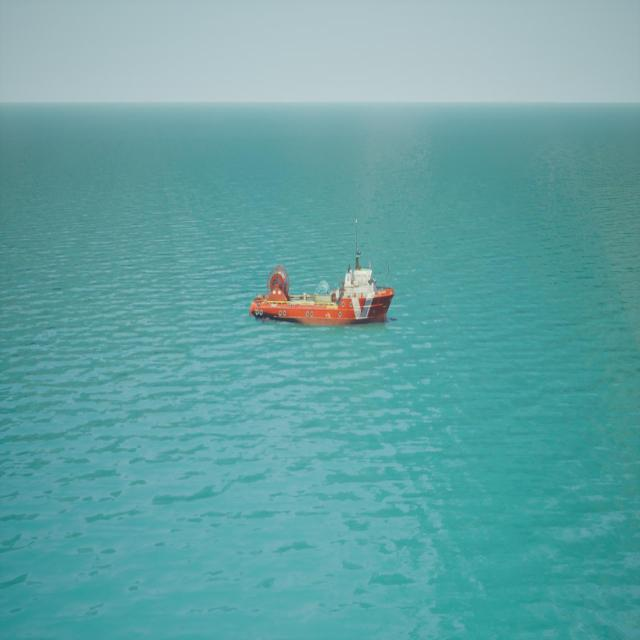tug boat: (251, 224, 396, 329)
